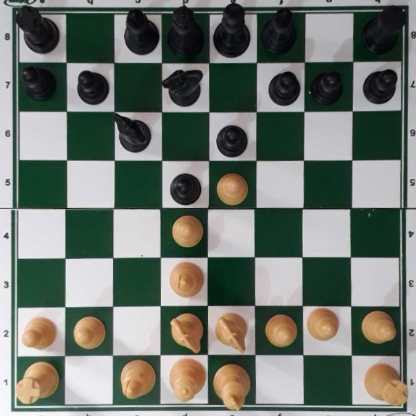black-bishop: (260, 6, 298, 54), (123, 7, 159, 54)
black-king: (215, 0, 251, 60)
black-knight: (164, 66, 201, 106), (113, 113, 151, 151)
black-pawn: (362, 67, 397, 104), (21, 65, 56, 101), (76, 67, 108, 104), (216, 122, 249, 157), (311, 68, 343, 103), (268, 71, 300, 105), (170, 171, 202, 204)
black-queen: (167, 5, 205, 56)
black-rook: (14, 3, 61, 55), (360, 7, 404, 53)
white-bishop: (119, 358, 154, 400), (169, 260, 204, 297)
white-king: (214, 360, 249, 410)
white-knight: (170, 314, 204, 352), (215, 312, 248, 351)
white-pawn: (19, 315, 58, 349), (359, 310, 396, 344), (263, 313, 297, 347), (306, 306, 339, 341), (72, 315, 106, 348), (215, 171, 249, 203), (171, 213, 203, 246)
white-queen: (169, 355, 204, 405)
white-rook: (363, 362, 408, 406), (15, 360, 60, 403)
